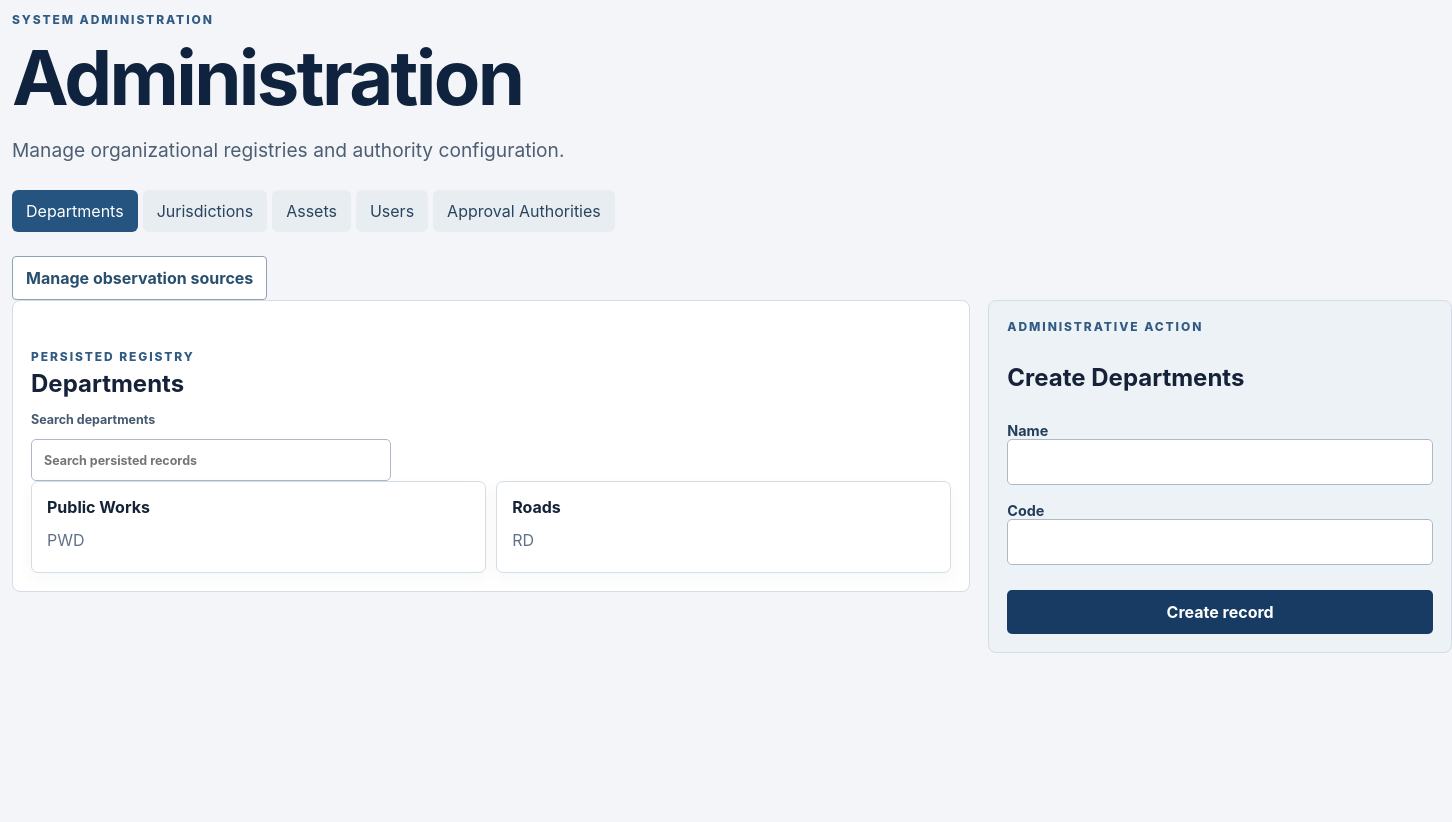
Test case: Administration › creates a department and authoritatively refetches registries
Check: the text "Public Works" is shown, box top-left (47, 497), bottom-right (150, 517)
Type "Roads" into the field labelled "Name". click: point(1220, 462)
box: top-left (1007, 439), bottom-right (1433, 485)
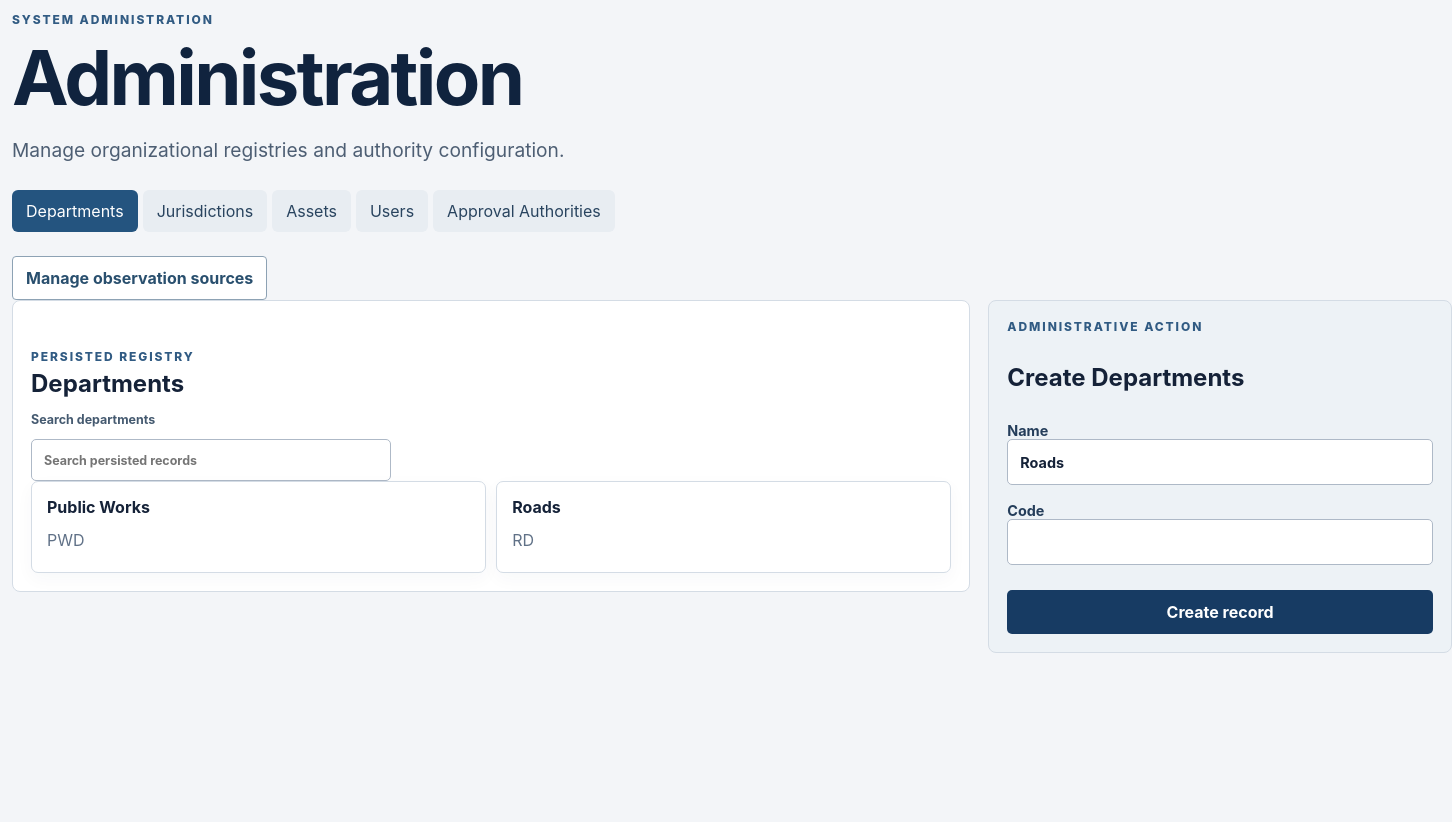
Type "RD" into the field labelled "Code". click: point(1220, 542)
box: top-left (1007, 519), bottom-right (1433, 565)
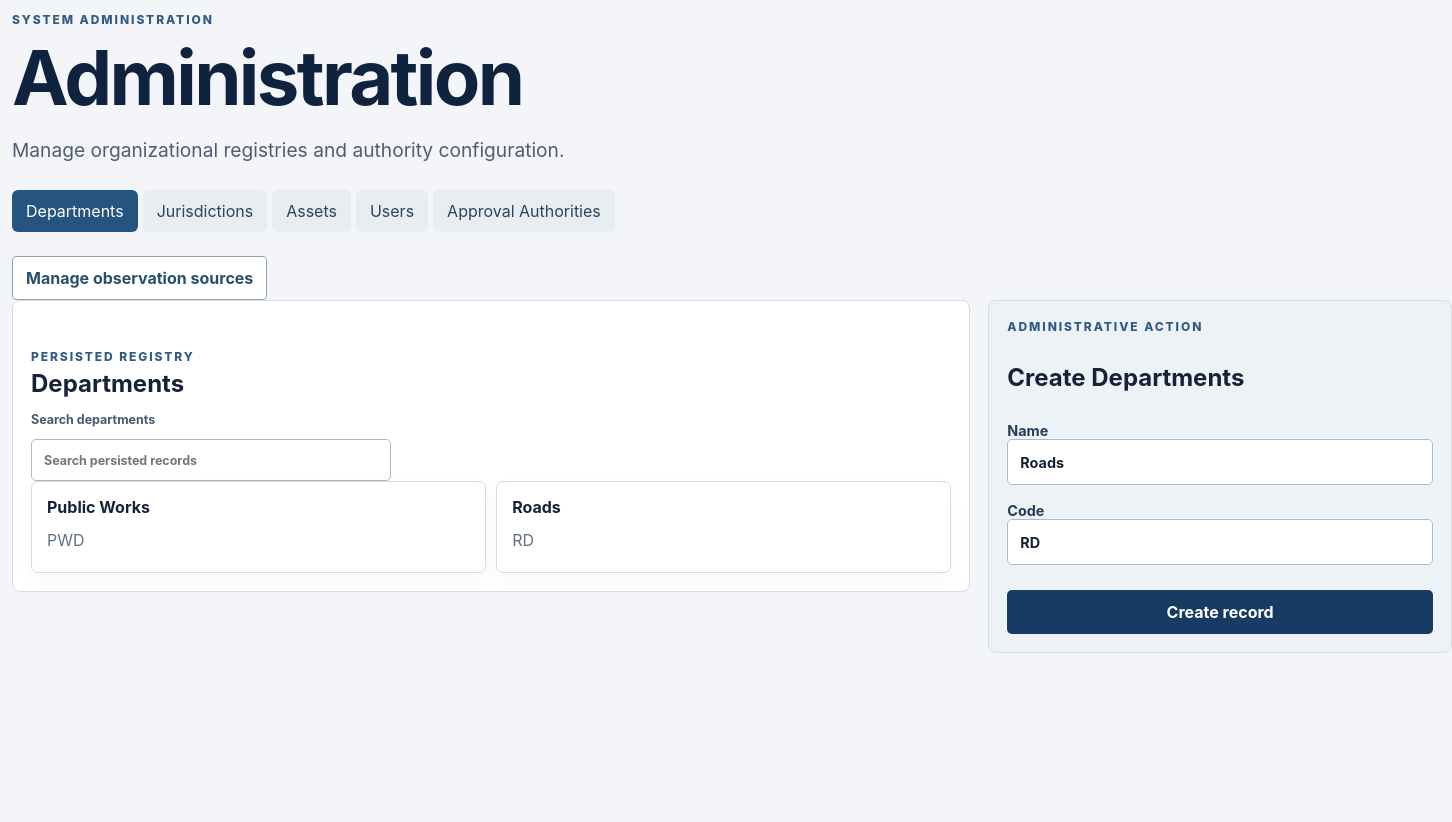
Click the button "Create record". click: point(1220, 612)
box: top-left (1007, 590), bottom-right (1433, 634)
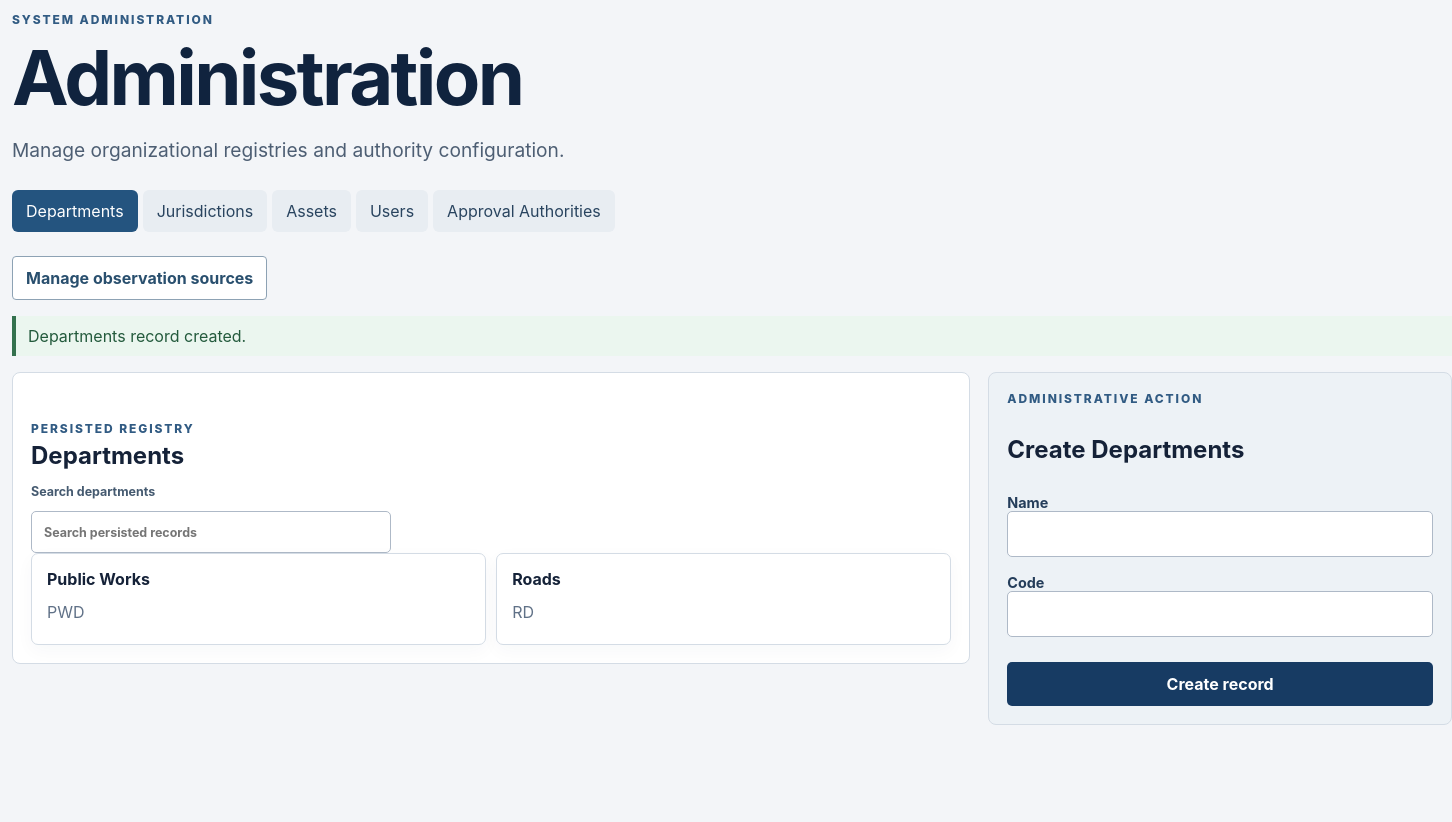
Check: the text "Departments record created." is shown, box top-left (12, 316), bottom-right (1451, 356)
